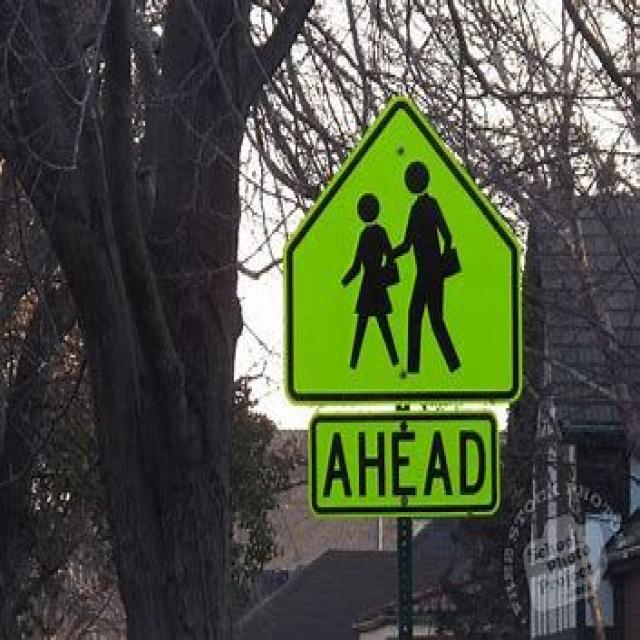SCHOOL_AHEAD: (278, 86, 524, 406)
